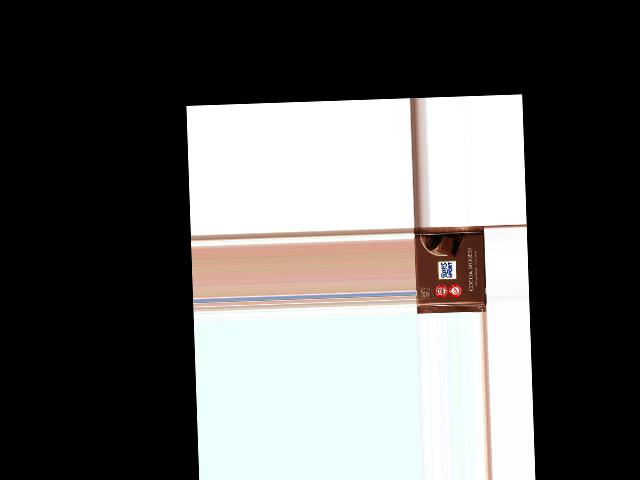chocolate: (414, 225, 487, 312)
